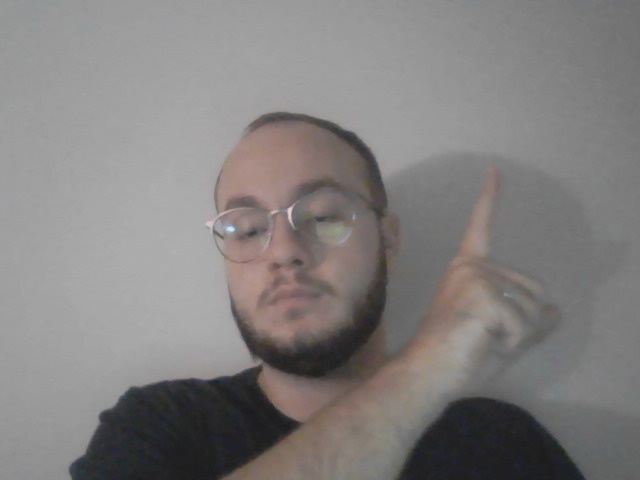One: (406, 167, 563, 413)
